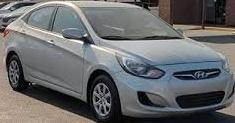Cars: (5, 2, 234, 123)
